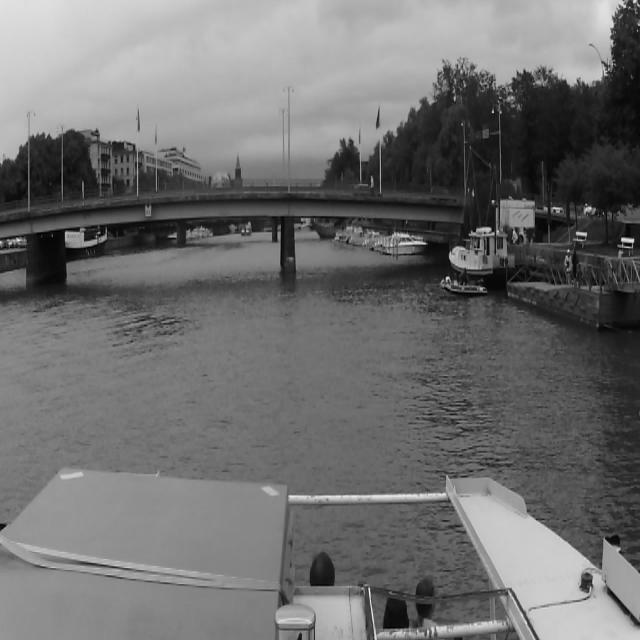ship: (440, 266, 490, 300), (388, 231, 429, 259)
